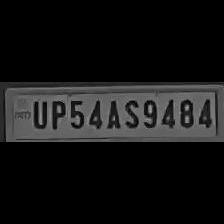4: (156, 95, 176, 129), (195, 96, 215, 128), (85, 96, 103, 128)
5: (66, 96, 86, 130)
8: (176, 96, 196, 128)
9: (140, 95, 158, 129)
A: (102, 96, 120, 130)
P: (46, 97, 66, 130)
S: (121, 96, 141, 128)
U: (28, 97, 48, 130)
